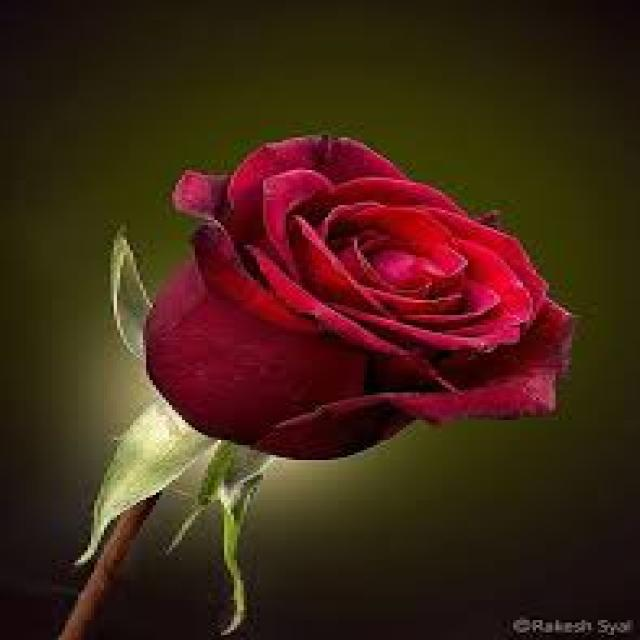rose: (51, 107, 613, 477)
